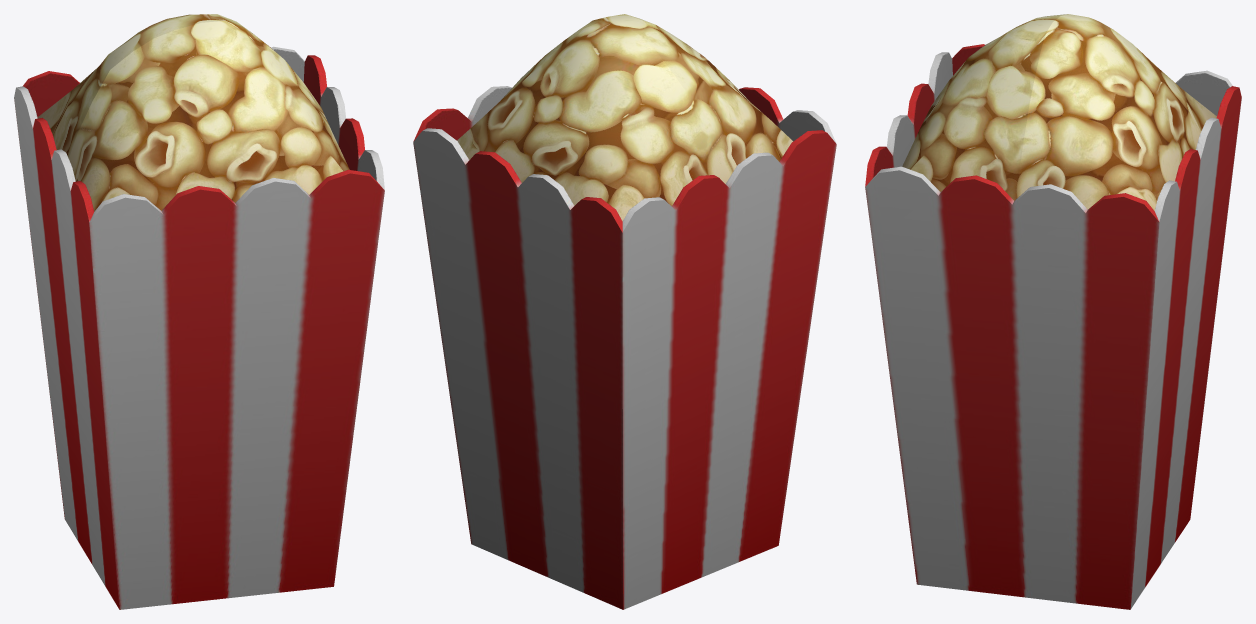
File: Popcorn.fbx
3 renders of one model, left to right at view 1: azimuth 30°, elevation 25°; view 2: azimuth 150°, elevation 25°; view 3: azimuth 270°, elevation 25°, orthographic.
Visible parts, largest first — view 1: Popcorn_1; view 2: Popcorn_1; view 3: Popcorn_1.
Boxes of the visible parts, x1=… form: Popcorn_1: x1=14, y1=14, x2=384, y2=609; Popcorn_1: x1=413, y1=14, x2=836, y2=609; Popcorn_1: x1=865, y1=14, x2=1241, y2=609.
Size of the model in its own units: 50.01 by 77.79 by 50.01.
Materials: 1 (1 with a texture image).
